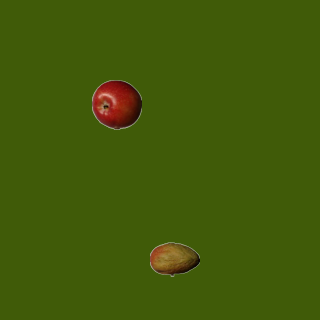Apple Braeburn: (91, 79, 141, 129)
Papaya: (149, 234, 199, 284)
